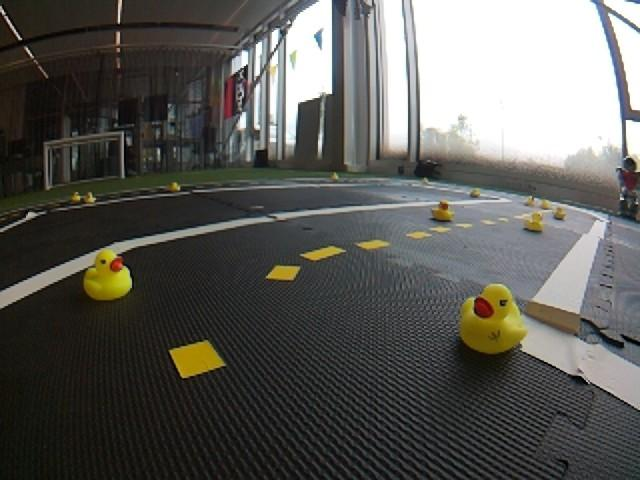Duckies: (457, 288, 531, 356), (84, 248, 132, 300), (431, 200, 454, 220), (523, 212, 545, 232), (553, 207, 567, 220), (525, 196, 536, 207), (85, 192, 95, 203), (169, 181, 180, 191), (540, 199, 551, 209), (70, 192, 81, 202), (471, 189, 481, 197), (331, 173, 338, 180), (422, 178, 429, 184)
